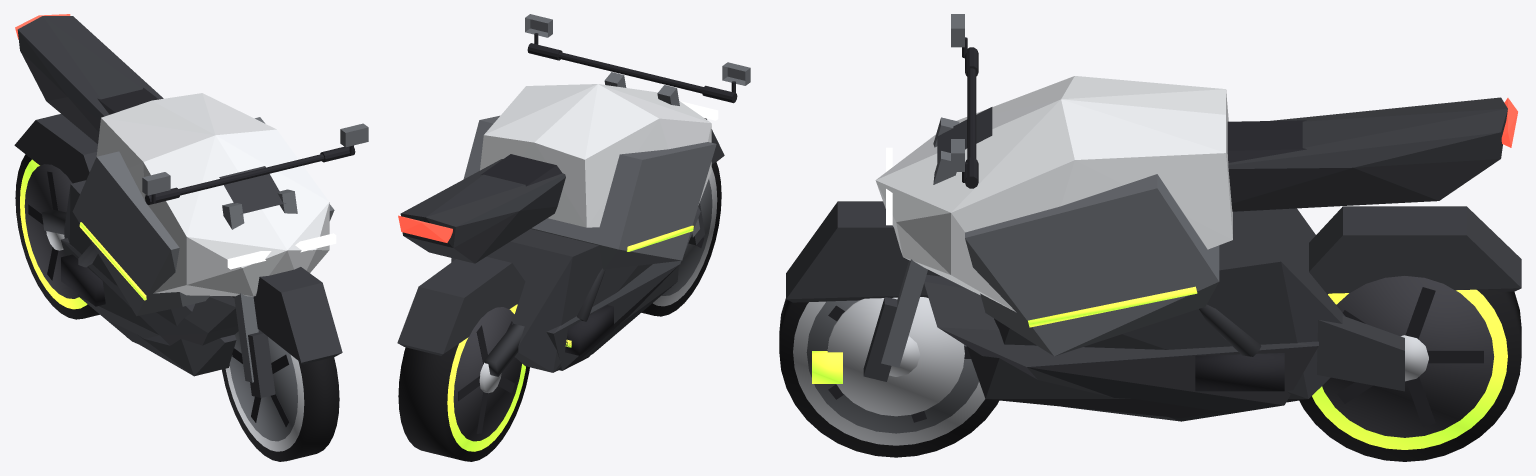
Rendered from bike_traffic.glb.
3 views of the same model, side by side, from view 1: azimuth 30°, elevation 25°; view 2: azimuth 150°, elevation 25°; view 3: azimuth 270°, elevation 25° (orthographic). The views are drawn at different scales.
Parts seen in each view (by area): view 1: Fairing, Details, FlankPlate, Wheel_F_Mesh, Tail, Wheel_R_Mesh, Belly, Battery, Seat; view 2: Fairing, Details, Wheel_R_Mesh, FlankPlate, Battery, Tail, Wheel_F_Mesh, Belly, Seat; view 3: Details, Fairing, FlankPlate, Wheel_R_Mesh, Wheel_F_Mesh, Tail, Battery, Belly, Seat.
Part boxes in pixels (box(x1,y1,x2,y2)): Fairing: box(96, 93, 329, 296); Details: box(14, 14, 368, 397); FlankPlate: box(72, 117, 334, 316); Wheel_F_Mesh: box(222, 329, 339, 461); Tail: box(17, 16, 163, 143); Wheel_R_Mesh: box(15, 154, 99, 319); Belly: box(60, 238, 238, 345); Battery: box(64, 180, 236, 376); Seat: box(97, 87, 158, 114); Fairing: box(480, 84, 711, 227); Details: box(397, 14, 750, 376); Wheel_R_Mesh: box(398, 304, 529, 461); FlankPlate: box(463, 115, 716, 269); Battery: box(451, 229, 678, 372); Tail: box(400, 159, 565, 263); Wheel_F_Mesh: box(641, 162, 721, 316); Belly: box(546, 207, 700, 370); Seat: box(480, 154, 562, 186); Details: box(786, 14, 1521, 391); Fairing: box(875, 76, 1232, 312); FlankPlate: box(965, 174, 1219, 356); Wheel_R_Mesh: box(1299, 276, 1521, 461); Wheel_F_Mesh: box(779, 297, 999, 457); Tail: box(1228, 97, 1507, 211); Battery: box(967, 208, 1344, 418); Belly: box(924, 275, 1318, 421); Seat: box(1227, 120, 1306, 162).
Bounding box in the file's own units: 0.96 × 1.17 × 2.16.
